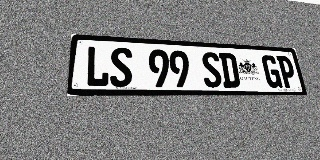9: (148, 49, 171, 87), (169, 50, 191, 87)
D: (218, 53, 241, 88)
G: (261, 55, 283, 88)
L: (85, 46, 109, 87)
P: (276, 56, 298, 88)
S: (110, 47, 133, 87), (201, 52, 223, 88)
